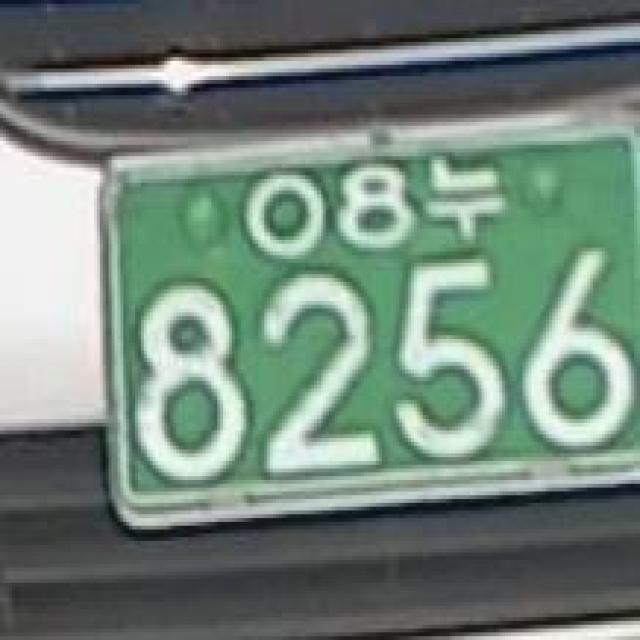illegal_plate: (91, 109, 638, 540)
